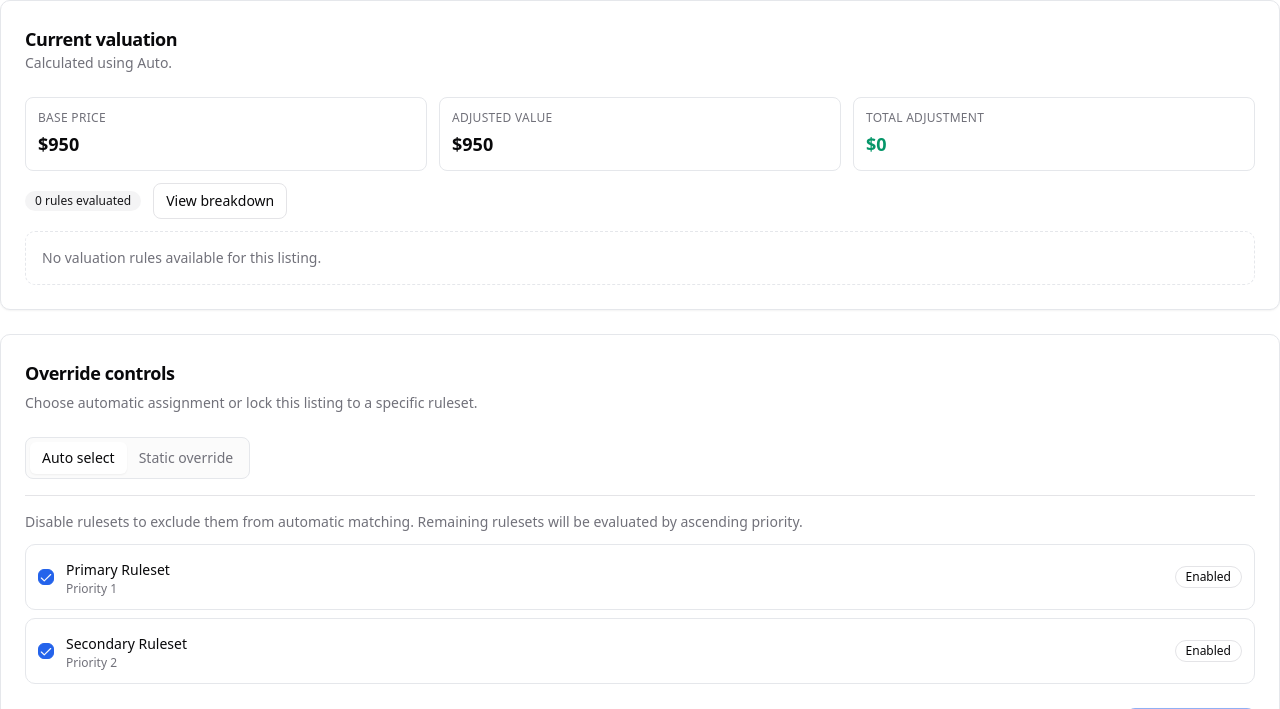
ListingValuationTab override workflow › disables the save button after successful override persist
Click the button "Static override" at (186, 458), box [127,442,245,474]
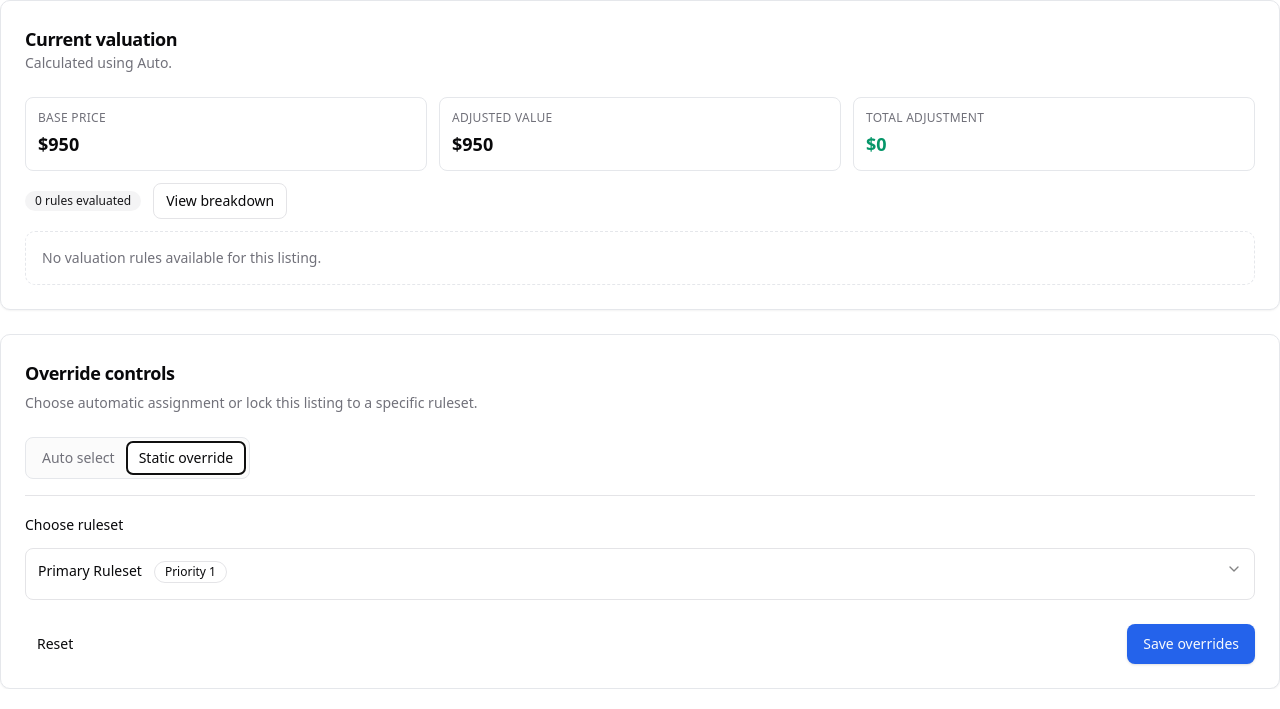
Now the button "Save overrides" is enabled
Click the button "Save overrides" at (1191, 644), box [1127,624,1255,664]
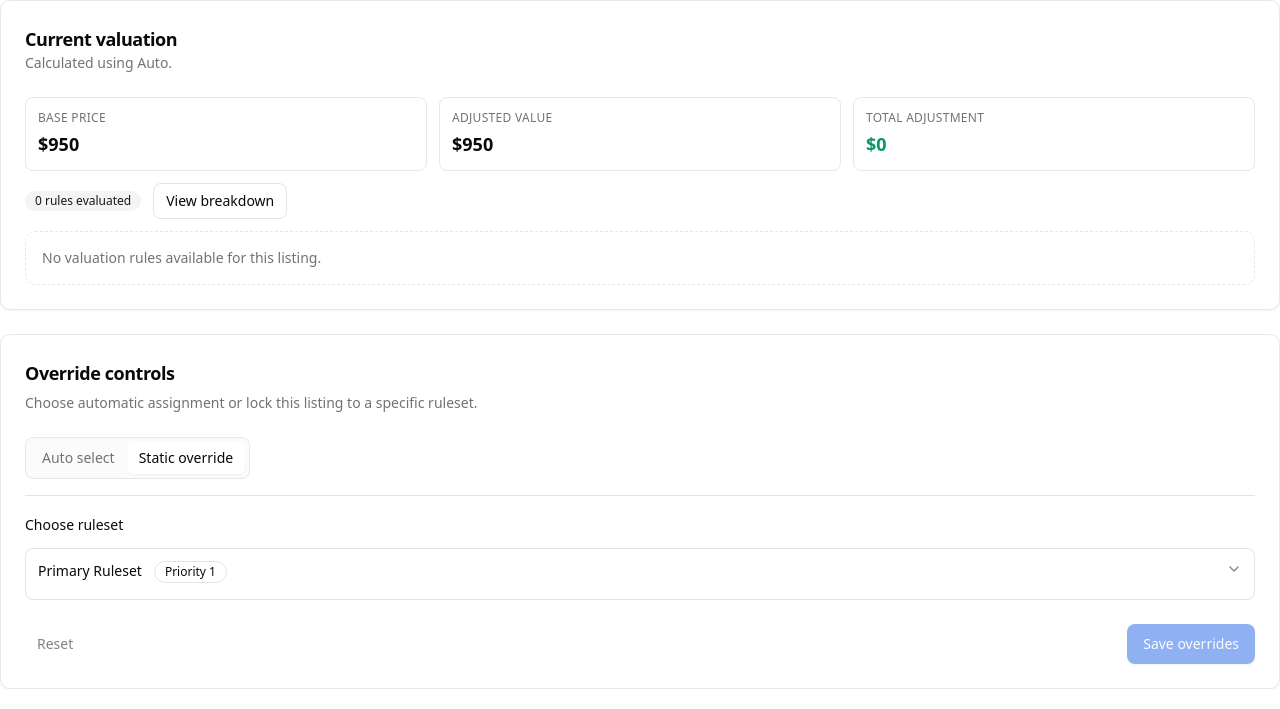
Now the button "Save overrides" is disabled, box [1127,624,1255,664]
